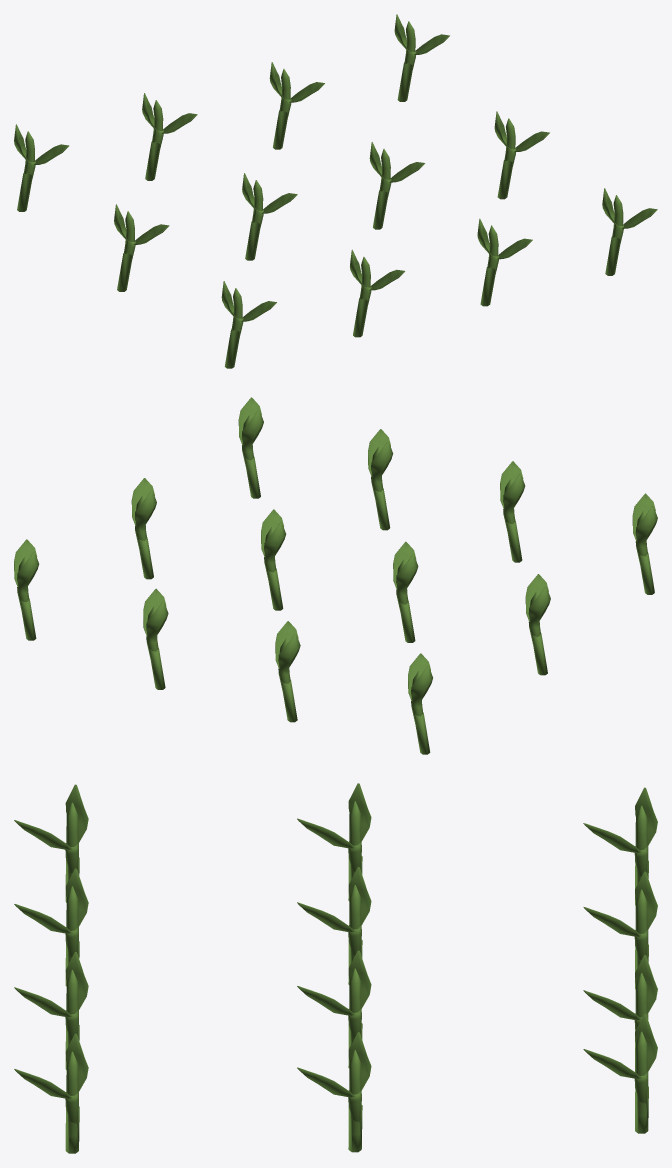
File: Cabbage-1.fbx
3 renders of one model, top to bottom at view 1: azimuth 30°, elevation 25°; view 2: azimuth 150°, elevation 25°; view 3: azimuth 270°, elevation 25°, orthographic. The views are drawn at different scales.
Visible parts, largest first — view 1: Cylinder.120, Cylinder.090, Cylinder.096, Cylinder.126, Cylinder.055, Cylinder.084, Cylinder.114, Cylinder.108, Cylinder.103, Cylinder.132, Cylinder.078, Cylinder.069; view 2: Cylinder.103, Cylinder.084, Cylinder.108, Cylinder.090, Cylinder.096, Cylinder.132, Cylinder.078, Cylinder.126, Cylinder.055, Cylinder.069, Cylinder.120, Cylinder.114; view 3: Cylinder.126, Cylinder.055, Cylinder.132, Cylinder.078, Cylinder.084, Cylinder.096, Cylinder.069, Cylinder.090, Cylinder.103, Cylinder.114, Cylinder.120, Cylinder.108.
Part boxes in pixels (box(x1,y1,x2,y2)): Cylinder.120: box(477, 218, 532, 306); Cylinder.090: box(350, 249, 405, 337); Cylinder.096: box(242, 173, 297, 260); Cylinder.126: box(494, 111, 549, 199); Cylinder.055: box(602, 188, 657, 275); Cylinder.084: box(221, 281, 276, 368); Cylinder.114: box(369, 142, 425, 229); Cylinder.108: box(269, 62, 324, 149); Cylinder.103: box(142, 93, 197, 180); Cylinder.132: box(394, 14, 449, 101); Cylinder.078: box(114, 204, 169, 291); Cylinder.069: box(14, 124, 69, 211); Cylinder.103: box(275, 621, 300, 722); Cylinder.084: box(632, 493, 657, 594); Cylinder.108: box(143, 588, 168, 689); Cylinder.090: box(500, 461, 525, 562); Cylinder.096: box(393, 541, 418, 642); Cylinder.132: box(14, 539, 39, 640); Cylinder.078: box(525, 574, 550, 675); Cylinder.126: box(131, 478, 156, 579); Cylinder.055: box(238, 397, 263, 498); Cylinder.069: box(408, 653, 432, 754); Cylinder.120: box(368, 429, 393, 530); Cylinder.114: box(261, 509, 286, 610); Cylinder.126: box(297, 1032, 371, 1152); Cylinder.055: box(14, 1033, 88, 1153); Cylinder.132: box(583, 1013, 657, 1133); Cylinder.078: box(297, 783, 371, 900); Cylinder.084: box(14, 784, 88, 902); Cylinder.096: box(297, 867, 371, 984); Cylinder.069: box(583, 787, 657, 905); Cylinder.090: box(14, 868, 88, 986); Cylinder.103: box(583, 871, 657, 989); Cylinder.114: box(297, 950, 371, 1068); Cylinder.120: box(14, 952, 88, 1069); Cylinder.108: box(583, 955, 657, 1071).
Size of the model in its own units: 119 by 27.78 by 117.
